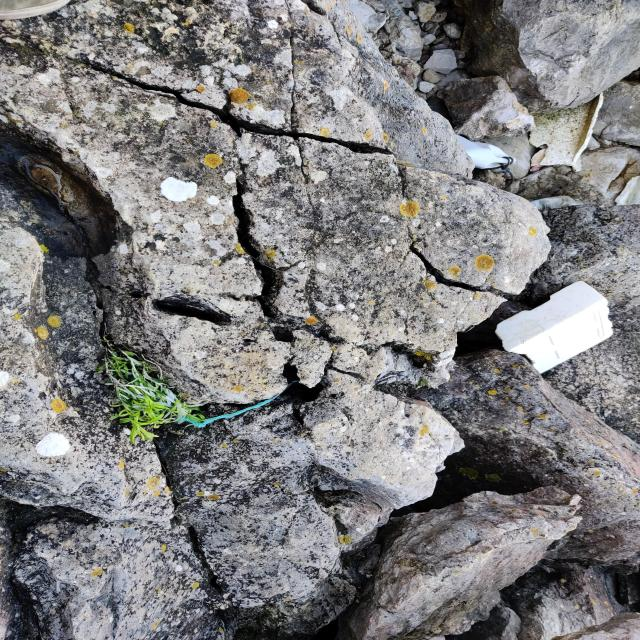litter: (493, 278, 616, 376), (123, 384, 300, 441), (529, 90, 608, 172), (452, 135, 524, 175), (470, 154, 519, 193), (529, 195, 586, 214), (612, 176, 637, 209)
